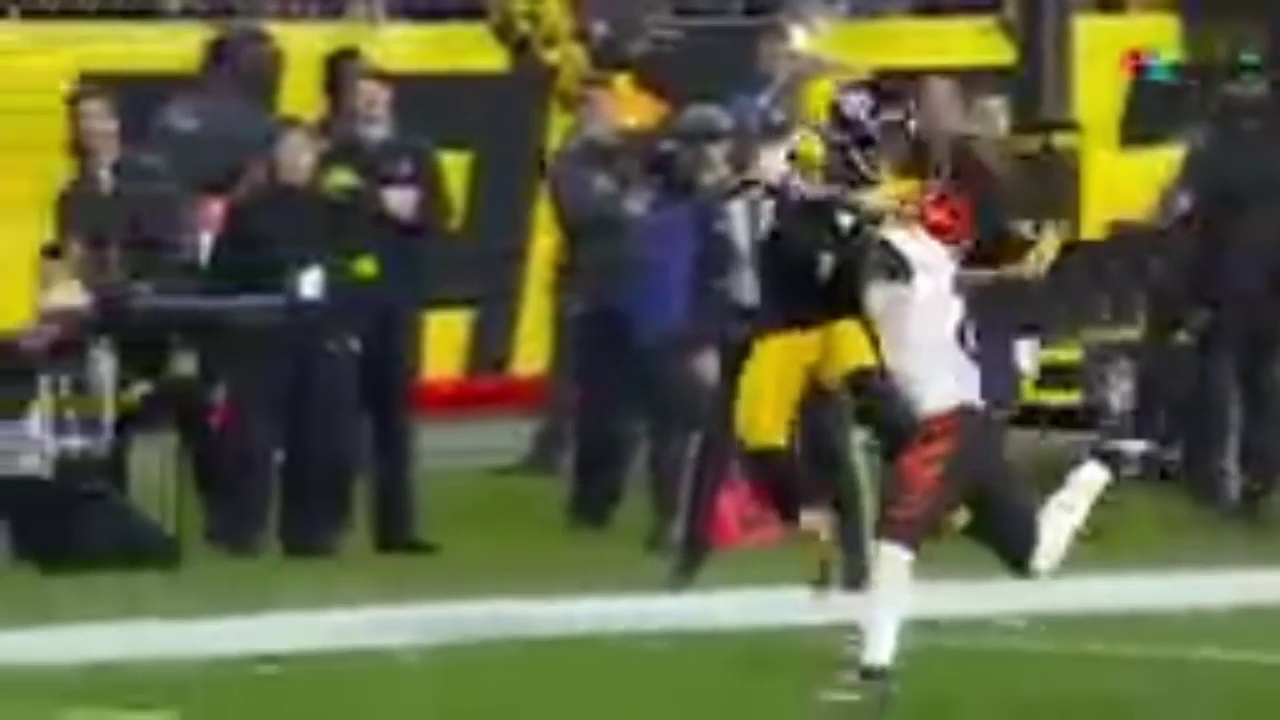interference: (787, 143, 951, 434)
